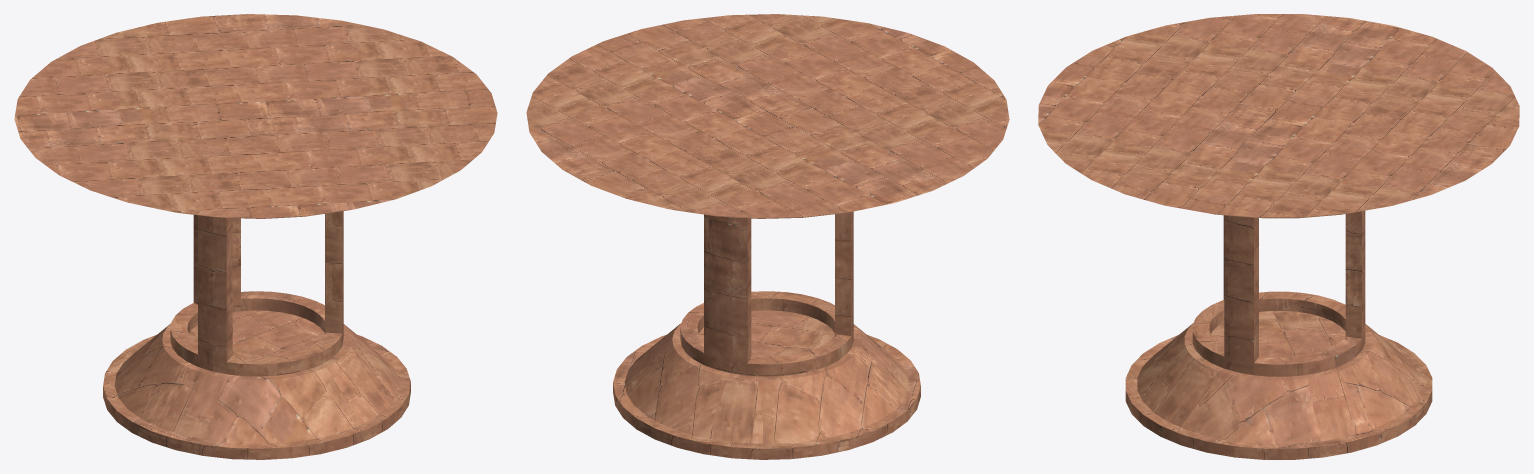
File: display_capsule.fbx
3 renders of one model, left to right at view 1: azimuth 30°, elevation 25°; view 2: azimuth 150°, elevation 25°; view 3: azimuth 270°, elevation 25°, orthographic.
Parts seen in each view (by area): view 1: Circle; view 2: Circle; view 3: Circle.
Part boxes in pixels (x1,y1,x2,y2): Circle: (14, 14, 497, 459); Circle: (526, 14, 1009, 459); Circle: (1038, 14, 1519, 459).
Size of the model in its own units: 781 by 500 by 781.
